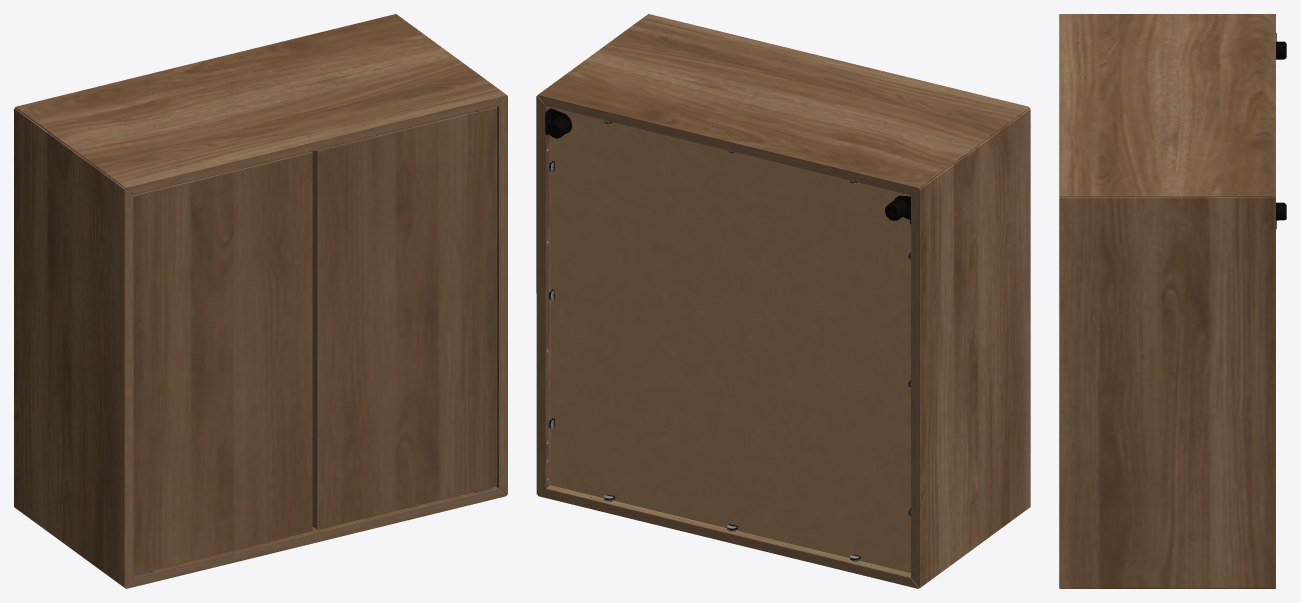
3 views of the same model, side by side, from view 1: azimuth 30°, elevation 25°; view 2: azimuth 150°, elevation 25°; view 3: azimuth 270°, elevation 25° (orthographic). The views are drawn at different scales.
Visible parts, largest first — view 1: ASY_ART_20574587_S01_NV01.001; view 2: ASY_ART_20574587_S01_NV01.001; view 3: ASY_ART_20574587_S01_NV01.001.
Boxes of the visible parts, box(x1,y1,x2,y2) form: ASY_ART_20574587_S01_NV01.001: box(14, 14, 507, 588); ASY_ART_20574587_S01_NV01.001: box(536, 14, 1030, 588); ASY_ART_20574587_S01_NV01.001: box(1059, 14, 1286, 588).
Bounding box in the file's own units: 0.7 × 0.7 × 0.3669.
1 material, 1 textured.
